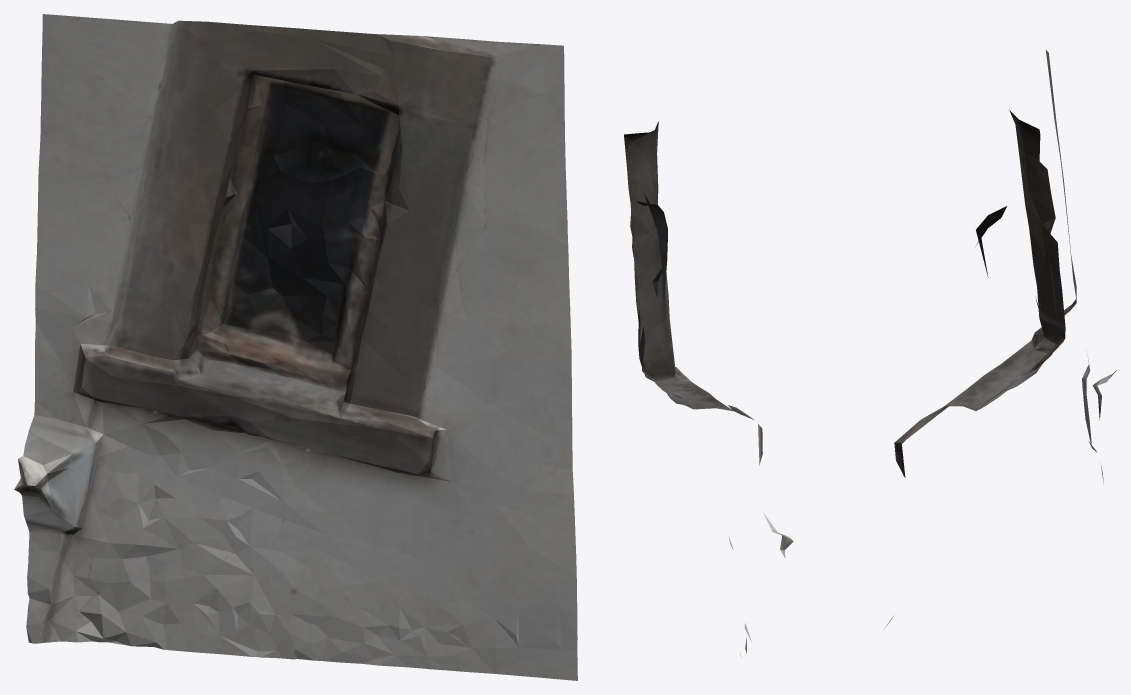
The picture shows the model from 3 angles, left to right: view 1: azimuth 30°, elevation 25°; view 2: azimuth 150°, elevation 25°; view 3: azimuth 270°, elevation 25°; orthographic projection. The views are drawn at different scales.
Bounding box in the file's own units: 1.09 × 1.67 × 0.8577.
Materials: 2 (2 with a texture image).
